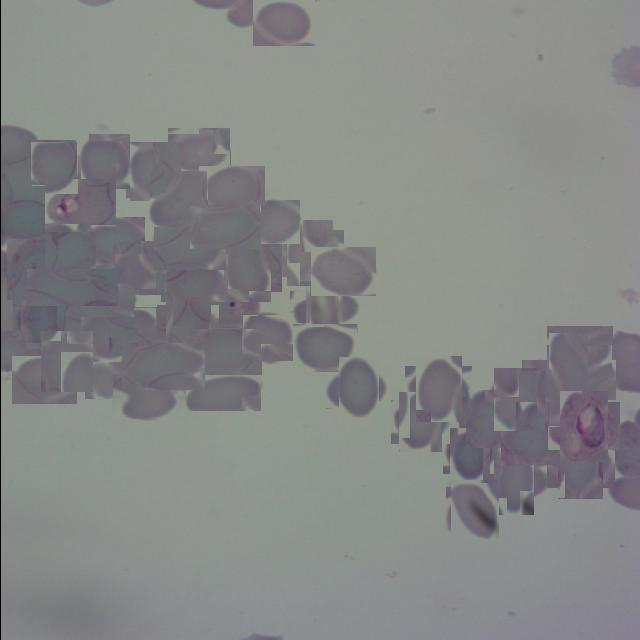leukocyte: (534, 347, 601, 414), (121, 343, 204, 390), (65, 285, 134, 337), (185, 328, 261, 375), (26, 268, 118, 306), (546, 326, 612, 378), (87, 307, 156, 356), (218, 239, 276, 297), (4, 240, 62, 298), (490, 371, 548, 429), (153, 224, 225, 270), (149, 170, 207, 227), (310, 246, 376, 296), (38, 333, 95, 390), (552, 436, 608, 494), (292, 323, 357, 372), (282, 226, 338, 282), (410, 361, 466, 417), (126, 144, 182, 200), (189, 205, 260, 249), (11, 356, 76, 404), (198, 166, 264, 212), (486, 452, 540, 508), (82, 217, 144, 265), (296, 283, 351, 337), (111, 374, 176, 419), (500, 418, 562, 465), (447, 484, 500, 538), (160, 300, 213, 354), (252, 0, 314, 46), (185, 374, 261, 411), (43, 229, 96, 282), (332, 362, 384, 416), (167, 128, 230, 172), (16, 293, 68, 346), (394, 396, 446, 448), (78, 136, 130, 188), (113, 242, 165, 294), (462, 394, 512, 445), (160, 263, 223, 302), (243, 314, 291, 363), (250, 200, 299, 244), (446, 431, 492, 477), (30, 140, 76, 186), (84, 362, 123, 399)
red blood cell: (44, 178, 116, 232)
schizont: (553, 396, 613, 456)
